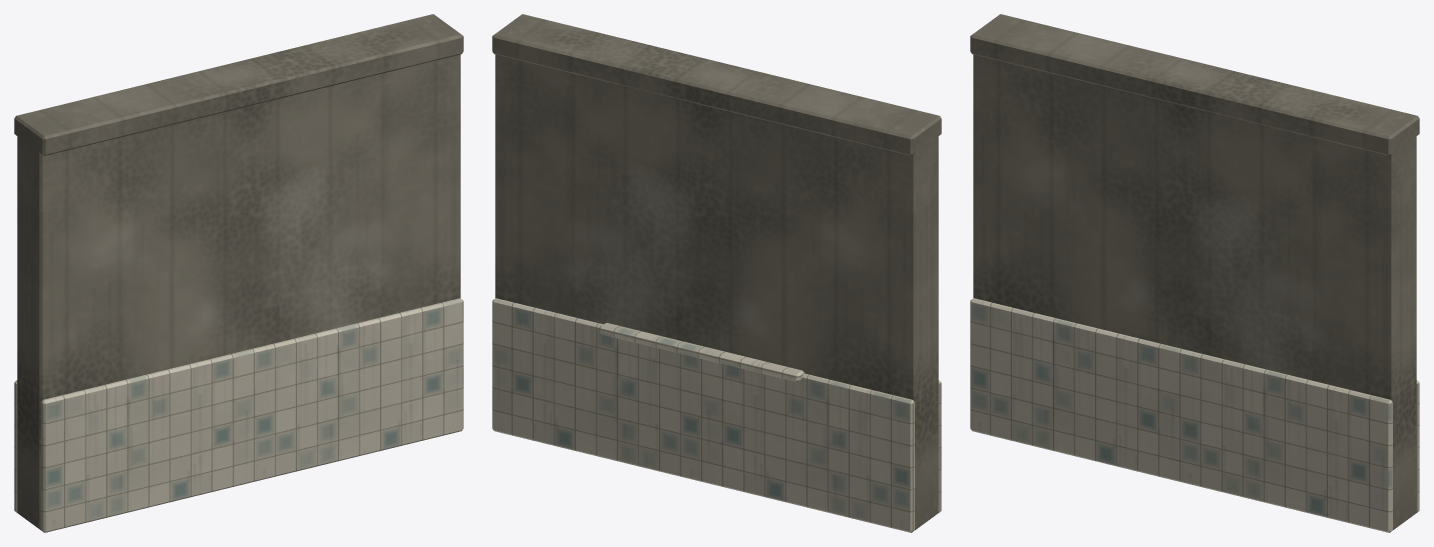
Rendered from WK_WALL_WINDOW_A_01.glb.
3 views of the same model, side by side, from view 1: azimuth 30°, elevation 25°; view 2: azimuth 150°, elevation 25°; view 3: azimuth 330°, elevation 25° (orthographic).
Visible parts, largest first — view 1: WK_WALL_WINDOW_A_01; view 2: WK_WALL_WINDOW_A_01; view 3: WK_WALL_WINDOW_A_01.
Boxes of the visible parts, box(x1,y1,x2,y2) form: WK_WALL_WINDOW_A_01: box(14, 14, 463, 532); WK_WALL_WINDOW_A_01: box(492, 14, 941, 532); WK_WALL_WINDOW_A_01: box(970, 14, 1419, 532).
Size of the model in its own units: 4 by 3.6 by 0.5606.
Materials: 2 (2 with a texture image).
